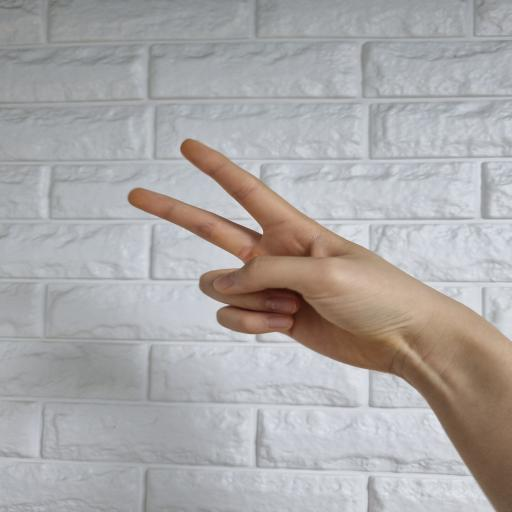Scissors: (128, 140, 460, 381)
